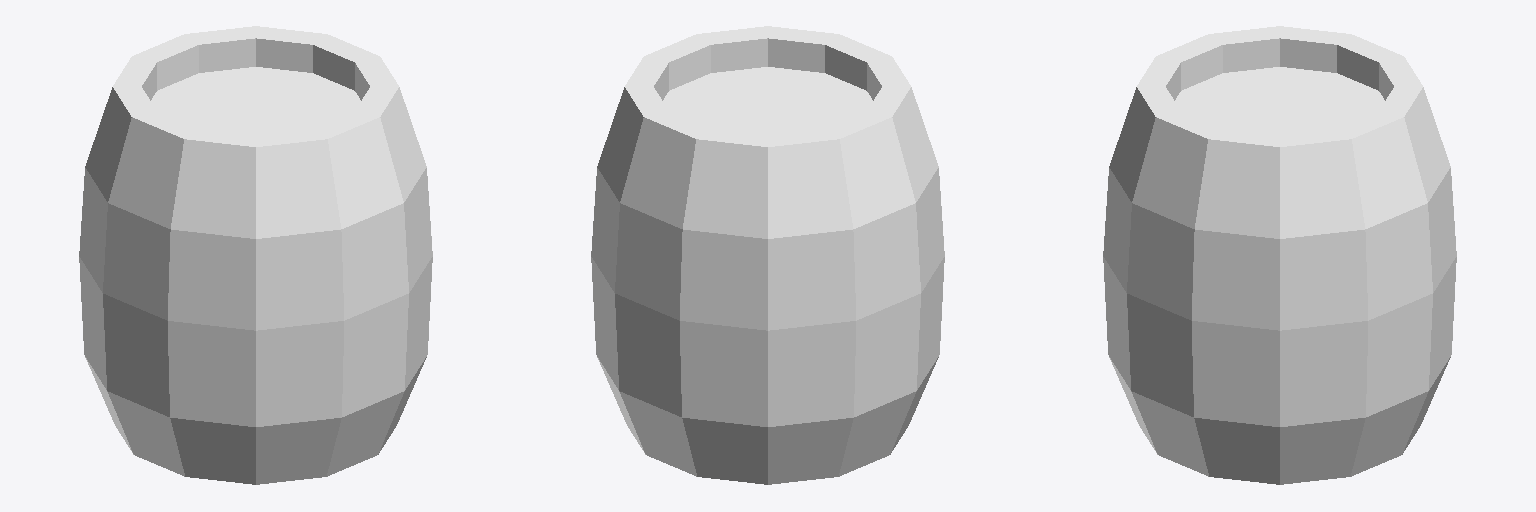
The model's file is Barrel.obj.
3 renders of one model, left to right at view 1: azimuth 30°, elevation 25°; view 2: azimuth 150°, elevation 25°; view 3: azimuth 270°, elevation 25°, orthographic.
Visible parts, largest first — view 1: Cylinder; view 2: Cylinder; view 3: Cylinder.
Part boxes in pixels (x1,y1,x2,y2): Cylinder: (79,26,432,484); Cylinder: (591,26,944,484); Cylinder: (1103,26,1456,484).
Bounding box in the file's own units: 0.3894 × 0.4114 × 0.3894.